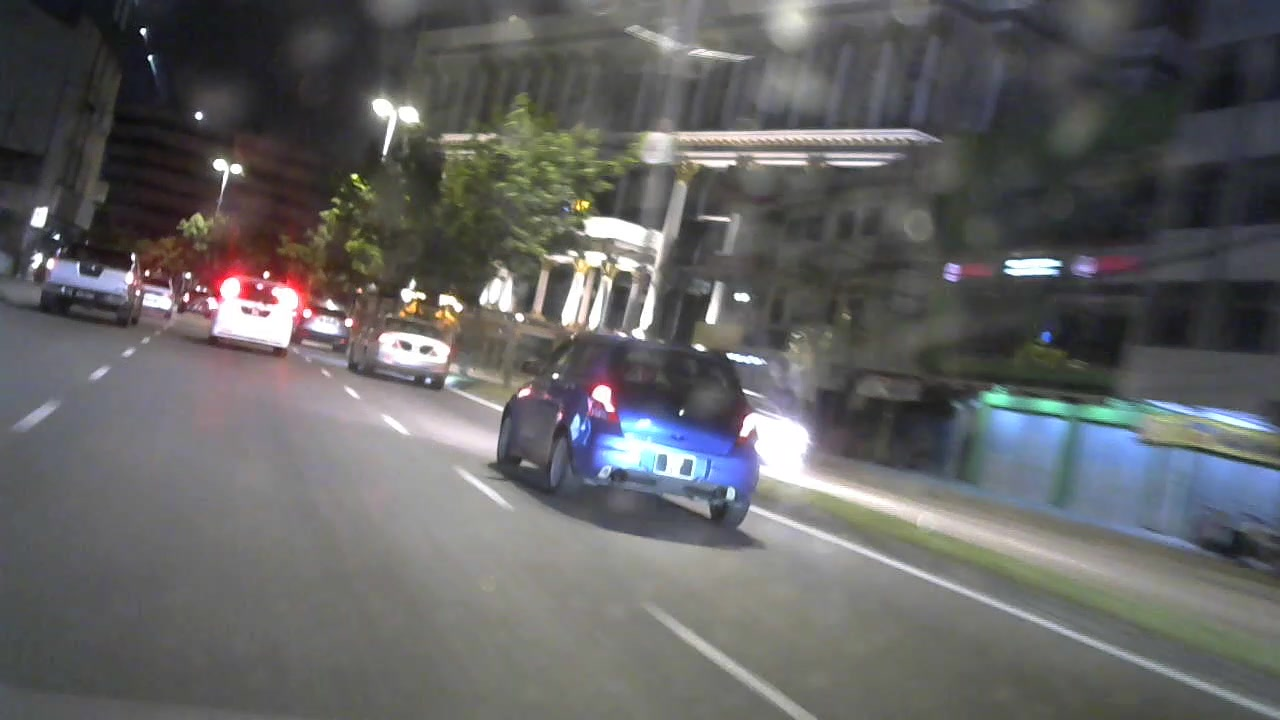Car: (505, 321, 765, 534), (40, 240, 149, 334), (354, 310, 458, 392), (203, 272, 301, 359), (297, 302, 354, 356), (137, 271, 172, 321), (182, 282, 221, 315)
